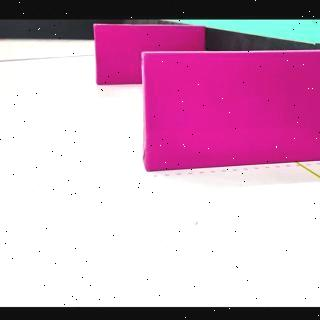xparking: (145, 52, 320, 172), (95, 24, 141, 86)
